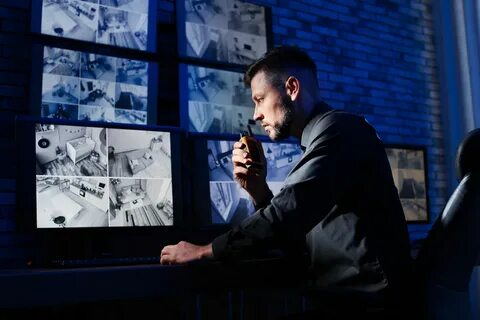awake: (231, 43, 411, 319)
